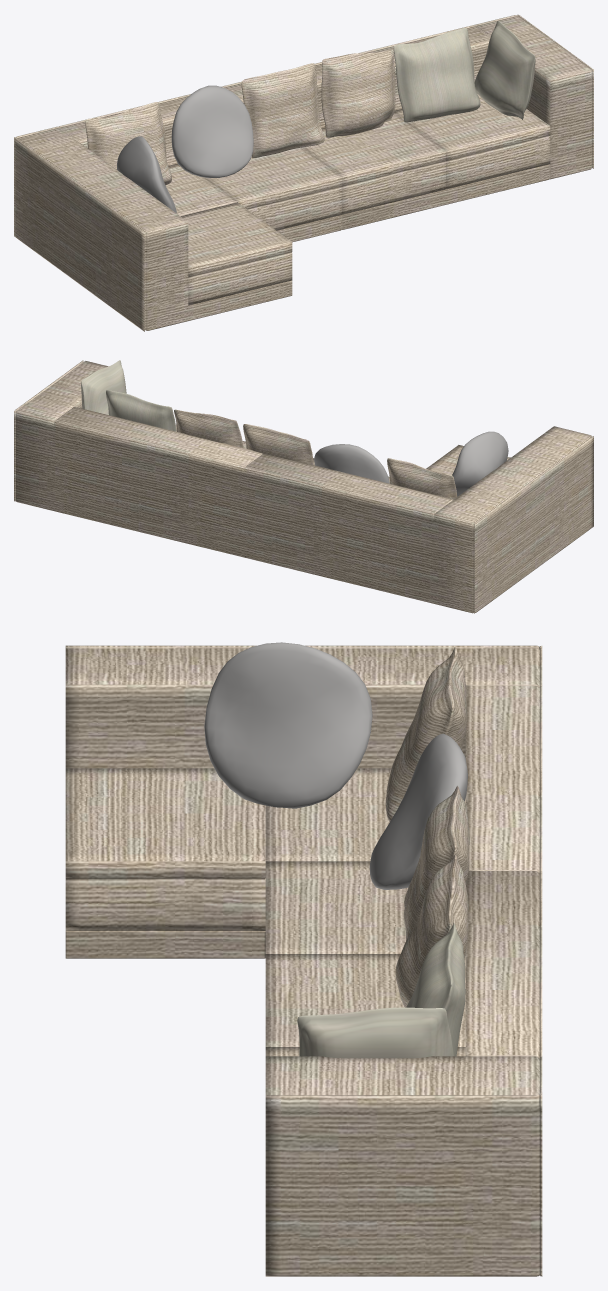
File: blendby-cornerSofa-quality-v2.glb
The picture shows the model from 3 angles, top to bottom: view 1: azimuth 30°, elevation 25°; view 2: azimuth 150°, elevation 25°; view 3: azimuth 270°, elevation 25°; orthographic projection. The views are drawn at different scales.
Visible parts, largest first — view 1: cornerSofa; view 2: cornerSofa; view 3: cornerSofa.
Boxes of the visible parts, box(x1,y1,x2,y2) form: cornerSofa: box(14, 14, 593, 331); cornerSofa: box(14, 360, 593, 613); cornerSofa: box(65, 642, 542, 1276).
Bounding box in the file's own units: 3.46 × 0.855 × 1.55.
Materials: 4 (3 with a texture image).
